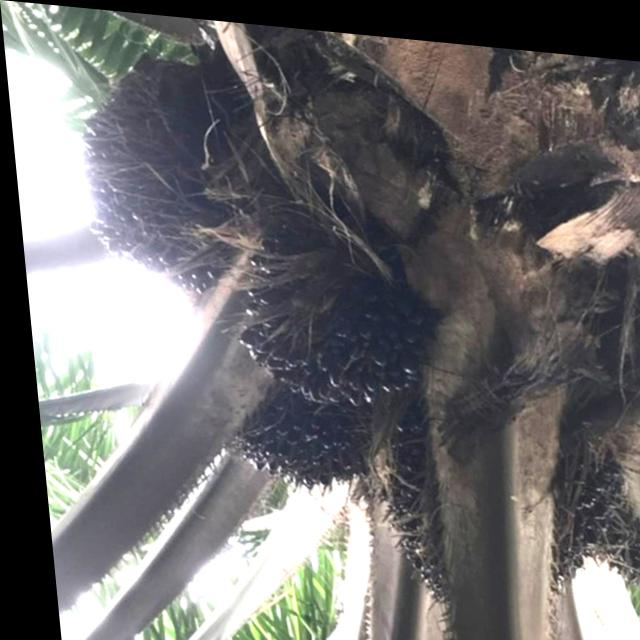almost: (210, 215, 445, 425)
